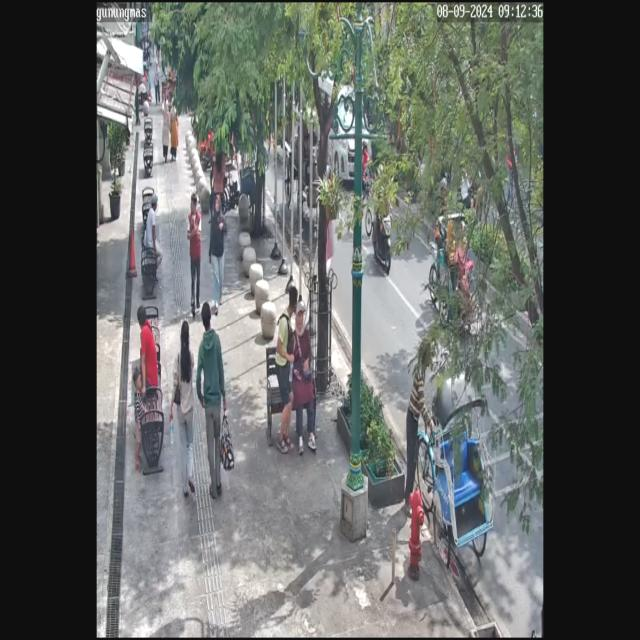Motorcycle: (360, 168, 401, 277)
